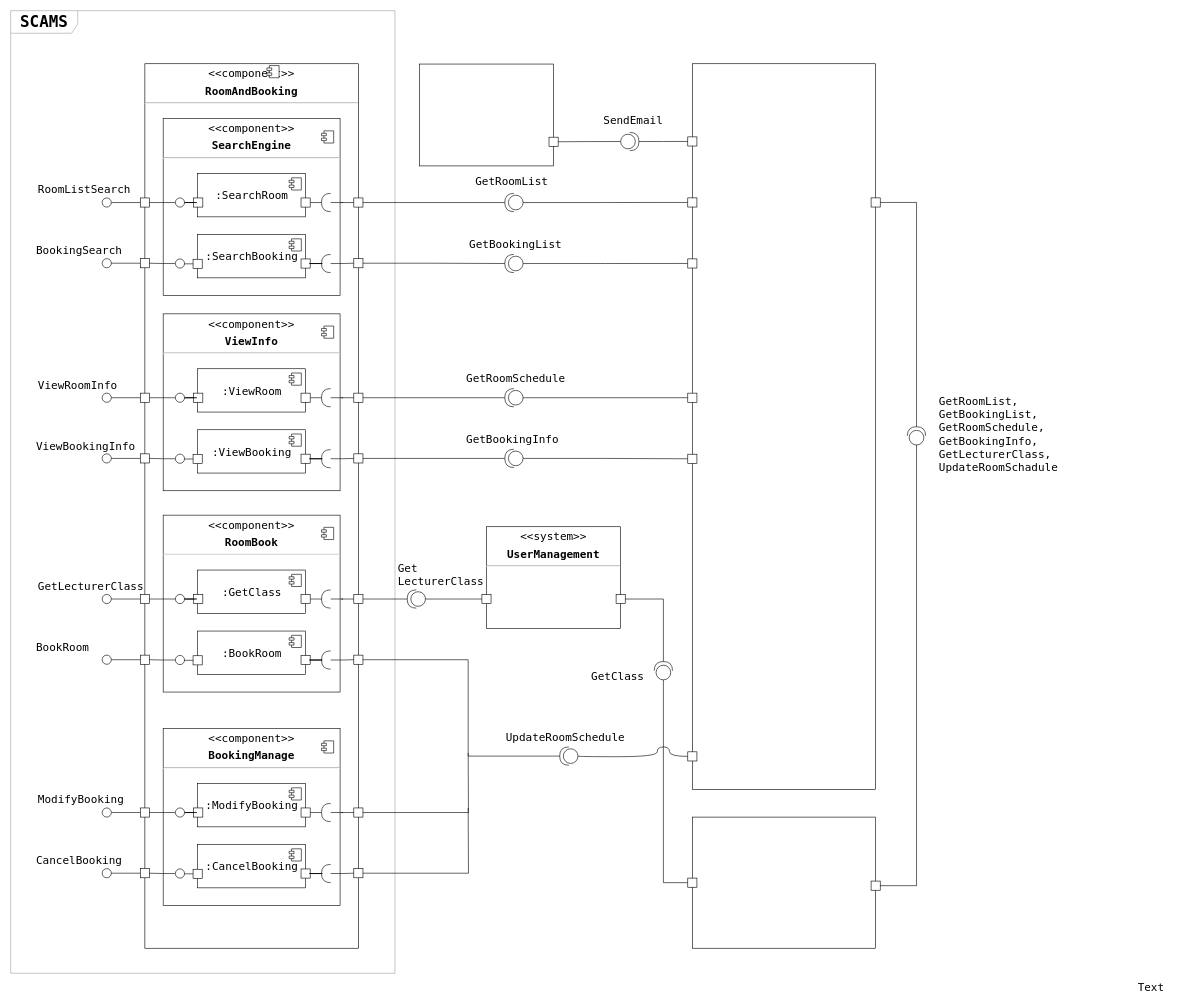
The diagram is 1184 pixels wide and 1005 high, and some of its shapes have lost their labels. The shapes that lost their labels are listed below. From the top down, each one's centre as x and y in pixels, then its label:
point 486,114: <<system>> Emailing
point 784,426: <<system>> ROMS
point 784,882: <<system>> UniversityDataBase
